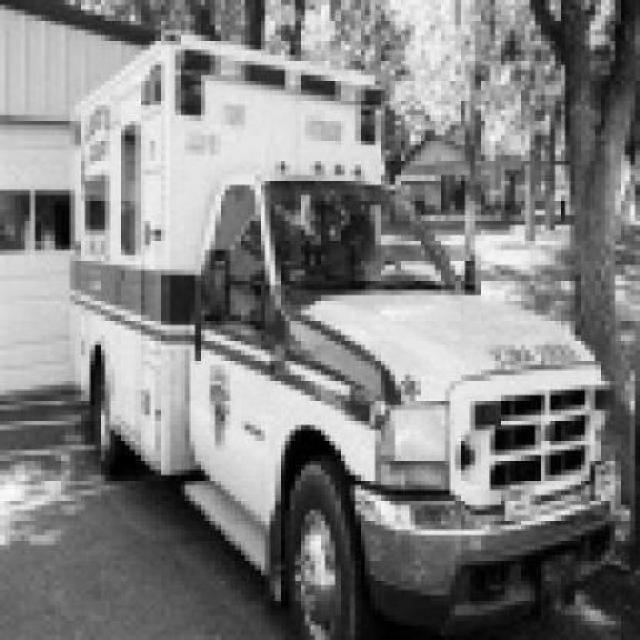Ambulance: (68, 39, 624, 640)
